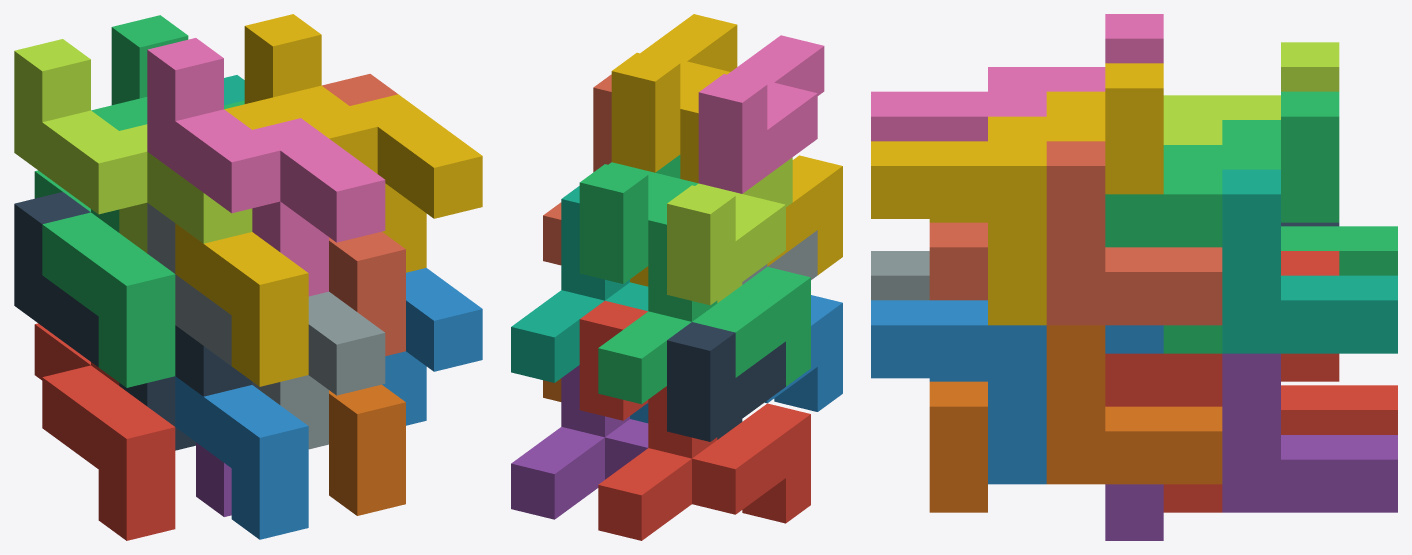
File: tiling.obj
3 renders of one model, left to right at view 1: azimuth 30°, elevation 25°; view 2: azimuth 150°, elevation 25°; view 3: azimuth 270°, elevation 25°, orthographic. The views are drawn at different scales.
Parts seen in each view (by area): view 1: copy_2_domain_4, copy_2_domain_8, copy_2_domain_3, copy_1_domain_3, copy_1_domain_1, copy_1_domain_4, copy_1_domain_2, copy_2_domain_2, copy_2_domain_1, copy_1_domain_6, copy_2_domain_6, copy_1_domain_8 (+3 smaller); view 2: copy_1_domain_1, copy_1_domain_3, copy_2_domain_4, copy_2_domain_3, copy_2_domain_8, copy_1_domain_5, copy_2_domain_1, copy_2_domain_7, copy_1_domain_7, copy_1_domain_4, copy_1_domain_2, copy_2_domain_5 (+2 smaller); view 3: copy_2_domain_8, copy_1_domain_6, copy_1_domain_8, copy_1_domain_5, copy_2_domain_6, copy_2_domain_7, copy_1_domain_7, copy_2_domain_4, copy_2_domain_5, copy_2_domain_3, copy_1_domain_3, copy_1_domain_1 (+2 smaller).
Boxes of the visible parts, box(x1,y1,x2,y2) form: copy_2_domain_4: box(147, 38, 385, 296); copy_2_domain_8: box(244, 14, 482, 272); copy_2_domain_3: box(14, 39, 252, 253); copy_1_domain_3: box(34, 98, 175, 387); copy_1_domain_1: box(34, 323, 175, 540); copy_1_domain_4: box(175, 97, 308, 386); copy_1_domain_2: box(175, 376, 308, 539); copy_2_domain_2: box(147, 203, 385, 449); copy_2_domain_1: box(14, 192, 252, 450); copy_1_domain_6: box(329, 384, 405, 515); copy_2_domain_6: box(382, 268, 482, 425); copy_1_domain_8: box(322, 74, 405, 356); copy_1_domain_1: box(598, 386, 810, 540); copy_1_domain_3: box(598, 207, 810, 404); copy_2_domain_4: box(698, 35, 824, 193); copy_2_domain_3: box(667, 157, 792, 305); copy_2_domain_8: box(611, 14, 737, 172); copy_1_domain_5: box(511, 365, 648, 519); copy_2_domain_1: box(667, 322, 785, 441); copy_2_domain_7: box(579, 155, 698, 283); copy_1_domain_7: box(511, 186, 648, 382); copy_1_domain_4: box(630, 95, 842, 286); copy_1_domain_2: box(630, 295, 842, 423); copy_2_domain_5: box(579, 301, 648, 420); copy_2_domain_8: box(871, 63, 1163, 325); copy_1_domain_6: box(929, 325, 1222, 512); copy_1_domain_8: box(929, 141, 1222, 325); copy_1_domain_5: box(1105, 353, 1397, 540); copy_2_domain_6: box(871, 300, 1163, 484); copy_2_domain_7: box(1105, 91, 1339, 353); copy_1_domain_7: box(1222, 169, 1397, 353); copy_2_domain_4: box(871, 14, 1163, 141); copy_2_domain_5: box(1105, 251, 1339, 512); copy_2_domain_3: box(1163, 42, 1339, 144); copy_1_domain_3: box(1222, 120, 1397, 275); copy_1_domain_1: box(1281, 385, 1397, 434).
Bounding box in the file's own units: 5 × 9 × 9.
